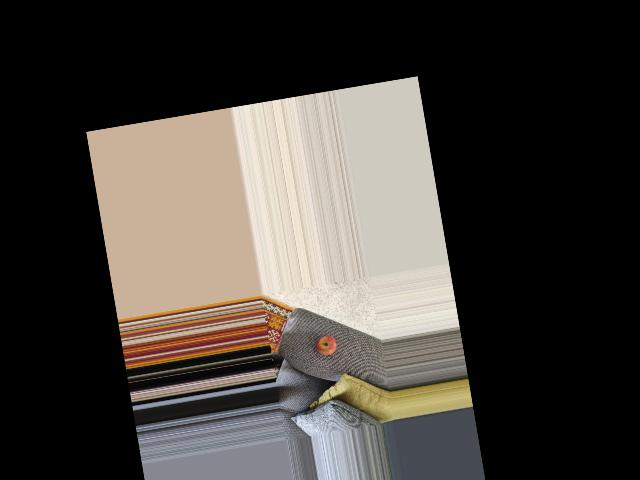apple: (313, 333, 338, 358)
